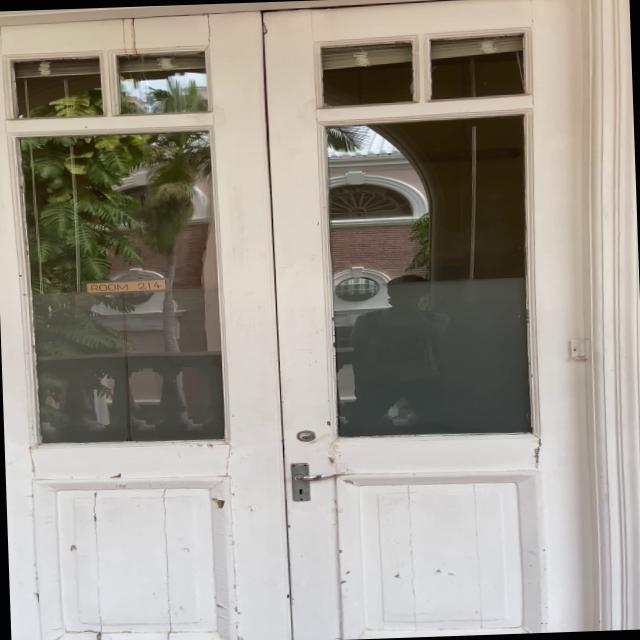room214Window: (76, 273, 168, 295)
